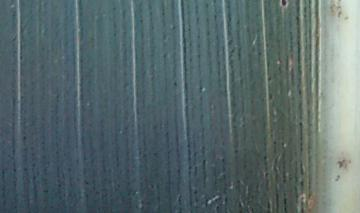tarspot: (281, 1, 288, 7)
